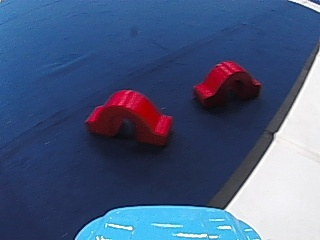bridge: (80, 87, 178, 149), (189, 56, 262, 110)
